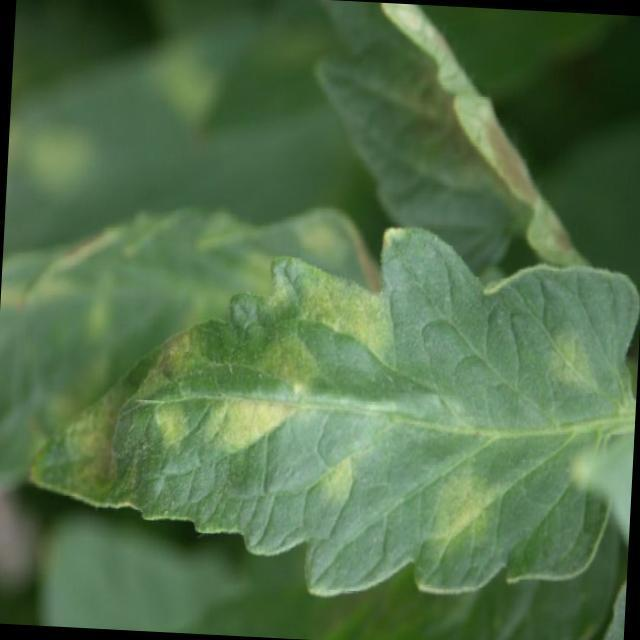Mosaic Virus: (20, 236, 640, 601)
